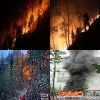fire: (21, 2, 48, 35), (80, 13, 100, 34), (22, 64, 31, 78), (59, 91, 83, 96), (60, 44, 68, 50), (14, 37, 16, 41)
